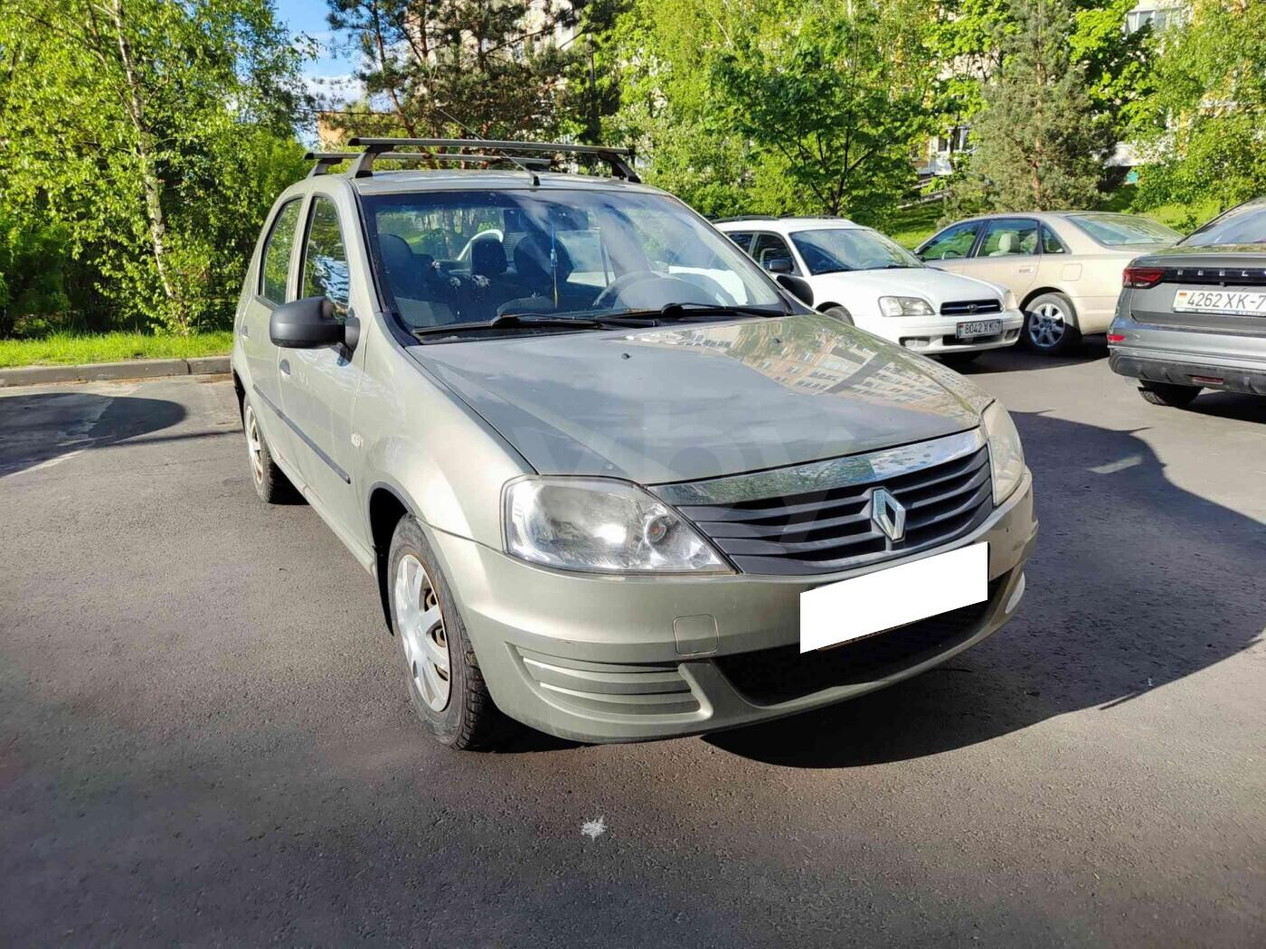Logan_2008-2015: (216, 164, 1043, 751)
